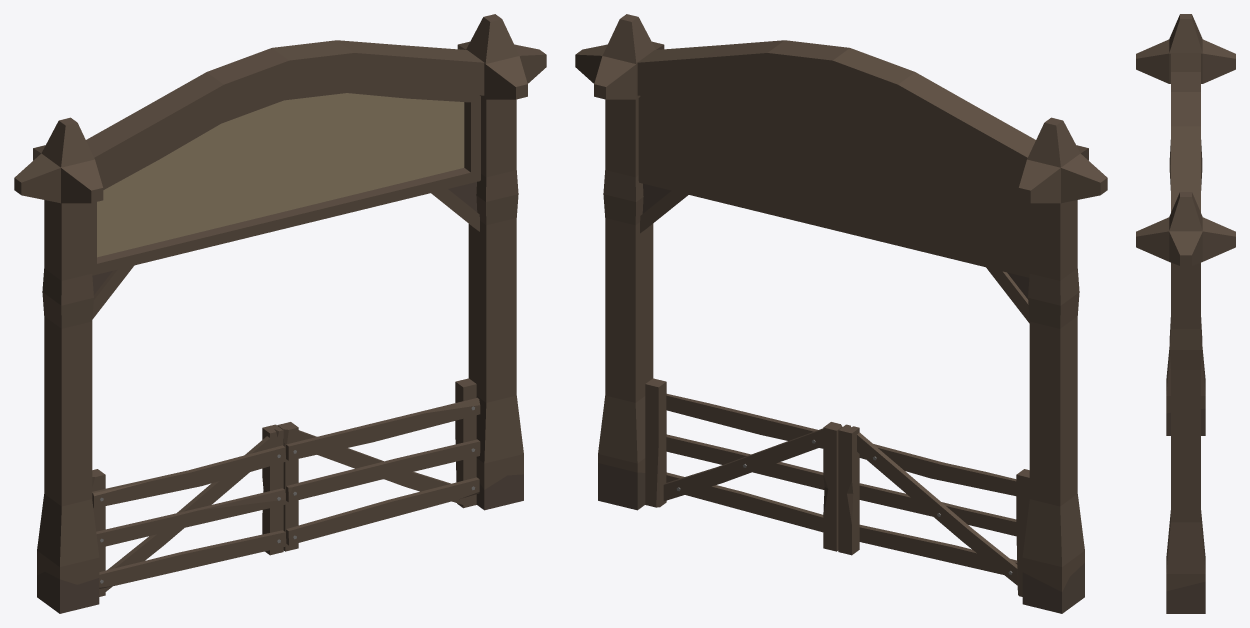
The model's file is SM_Props_Farm_Entrance_01.fbx.
3 renders of one model, left to right at view 1: azimuth 30°, elevation 25°; view 2: azimuth 150°, elevation 25°; view 3: azimuth 270°, elevation 25°, orthographic. The views are drawn at different scales.
Parts seen in each view (by area): view 1: SM_Props_Farm_Entrance_01; view 2: SM_Props_Farm_Entrance_01; view 3: SM_Props_Farm_Entrance_01.
Part boxes in pixels (x1,y1,x2,y2): SM_Props_Farm_Entrance_01: (14,14,546,613); SM_Props_Farm_Entrance_01: (575,14,1107,613); SM_Props_Farm_Entrance_01: (1136,14,1235,613).
Bounding box in the file's own units: 619 × 557 × 119.
